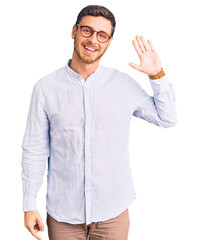Hello: (123, 33, 166, 75)
